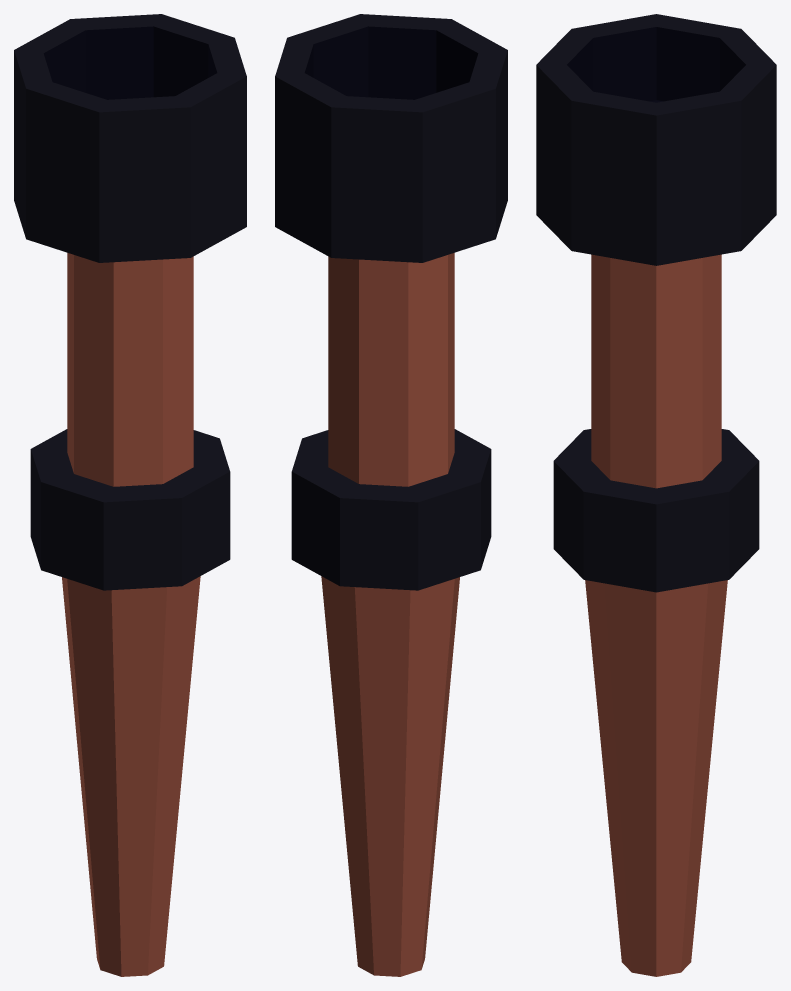
Rendered from torch.glb.
3 renders of one model, left to right at view 1: azimuth 30°, elevation 25°; view 2: azimuth 150°, elevation 25°; view 3: azimuth 270°, elevation 25°, orthographic.
Parts seen in each view (by area): view 1: torch; view 2: torch; view 3: torch.
Boxes of the visible parts, box(x1,y1,x2,y2) form: torch: box(14, 14, 246, 976); torch: box(275, 14, 507, 976); torch: box(536, 14, 776, 976).
Size of the model in its own units: 0.15 by 0.6178 by 0.15.
Materials: 1 (1 with a texture image).
